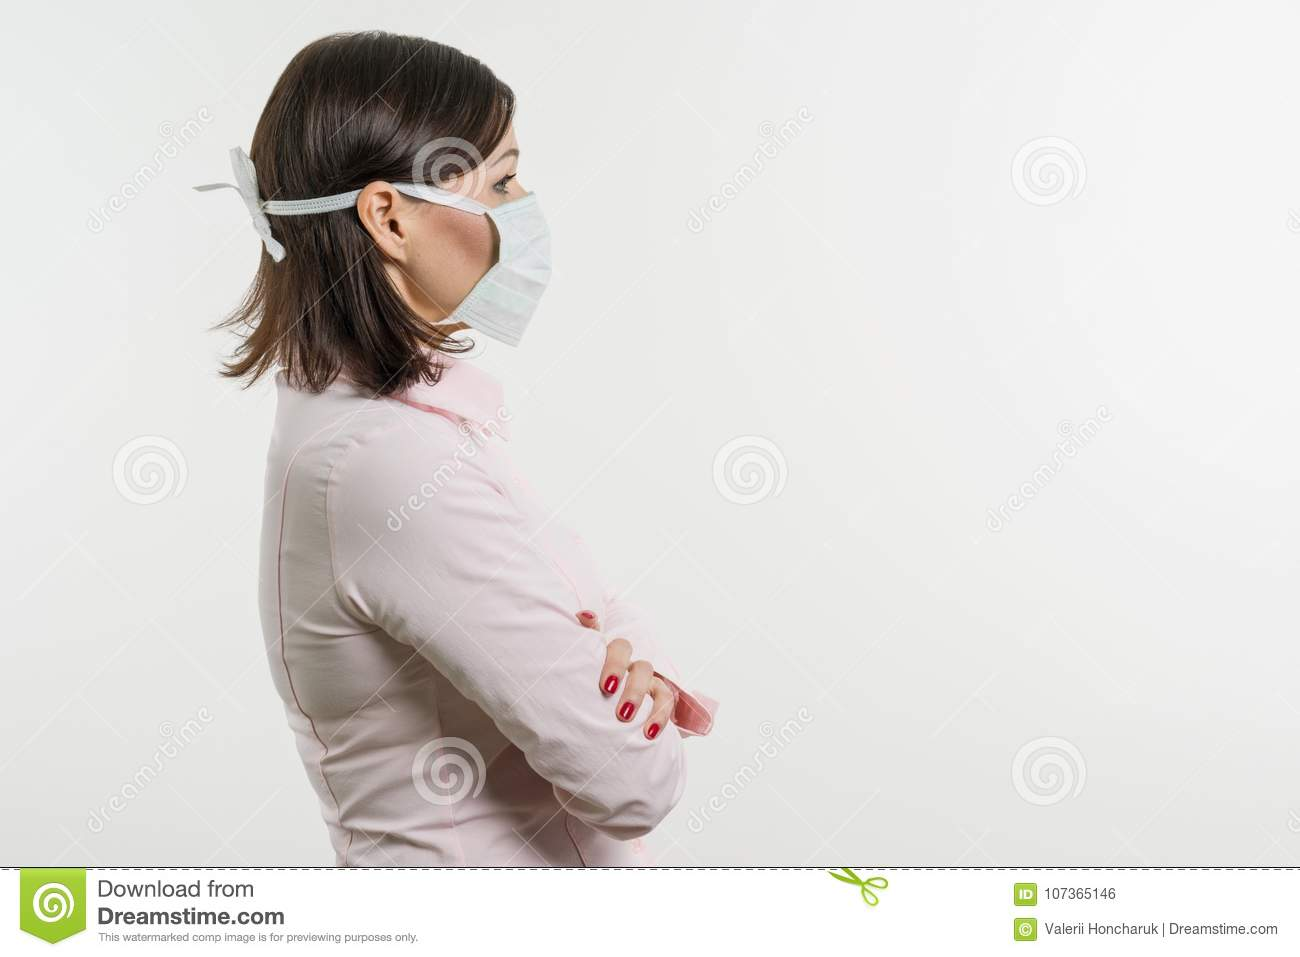mask: (444, 197, 553, 343)
